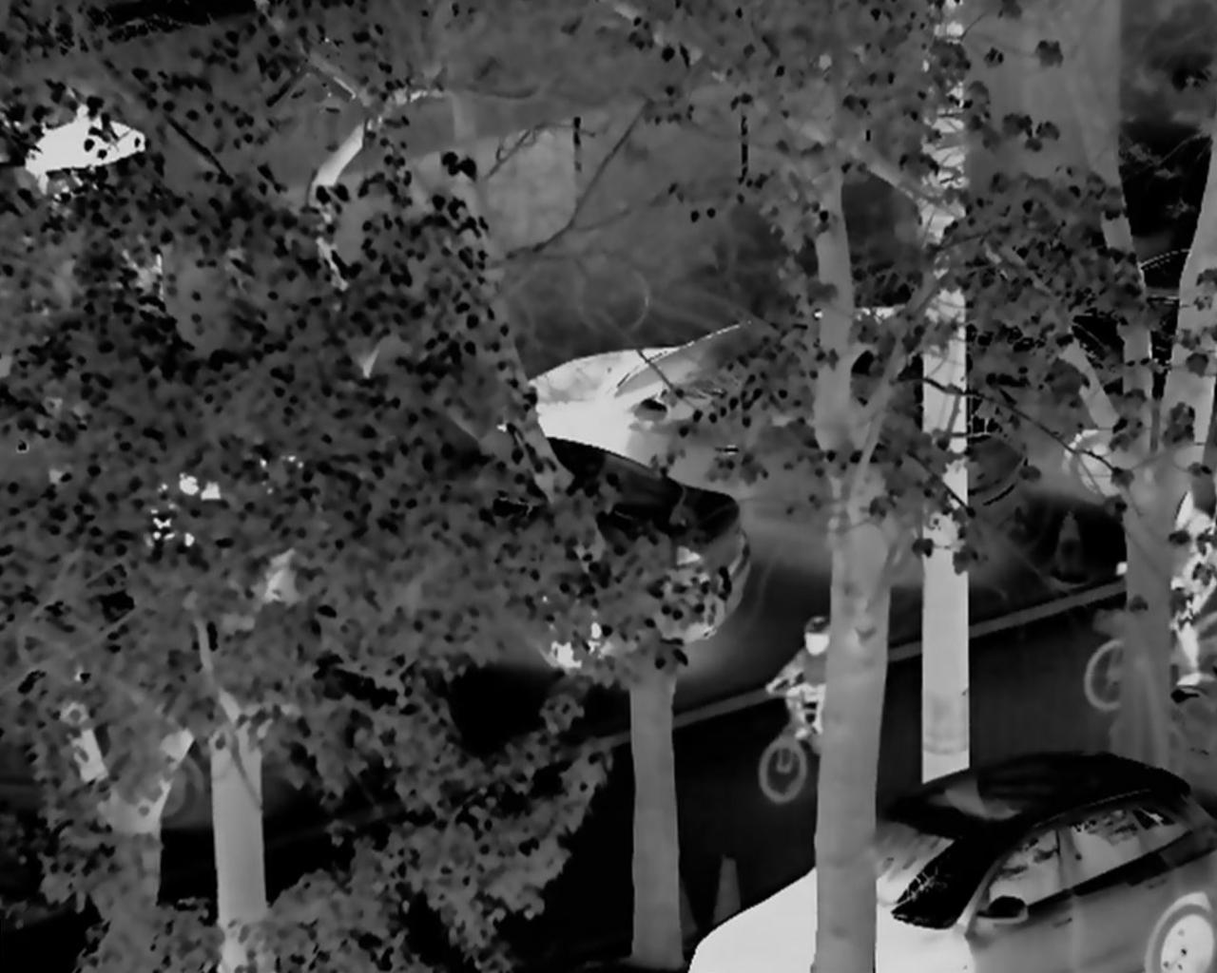person: (763, 613, 848, 757), (1155, 503, 1217, 674)
